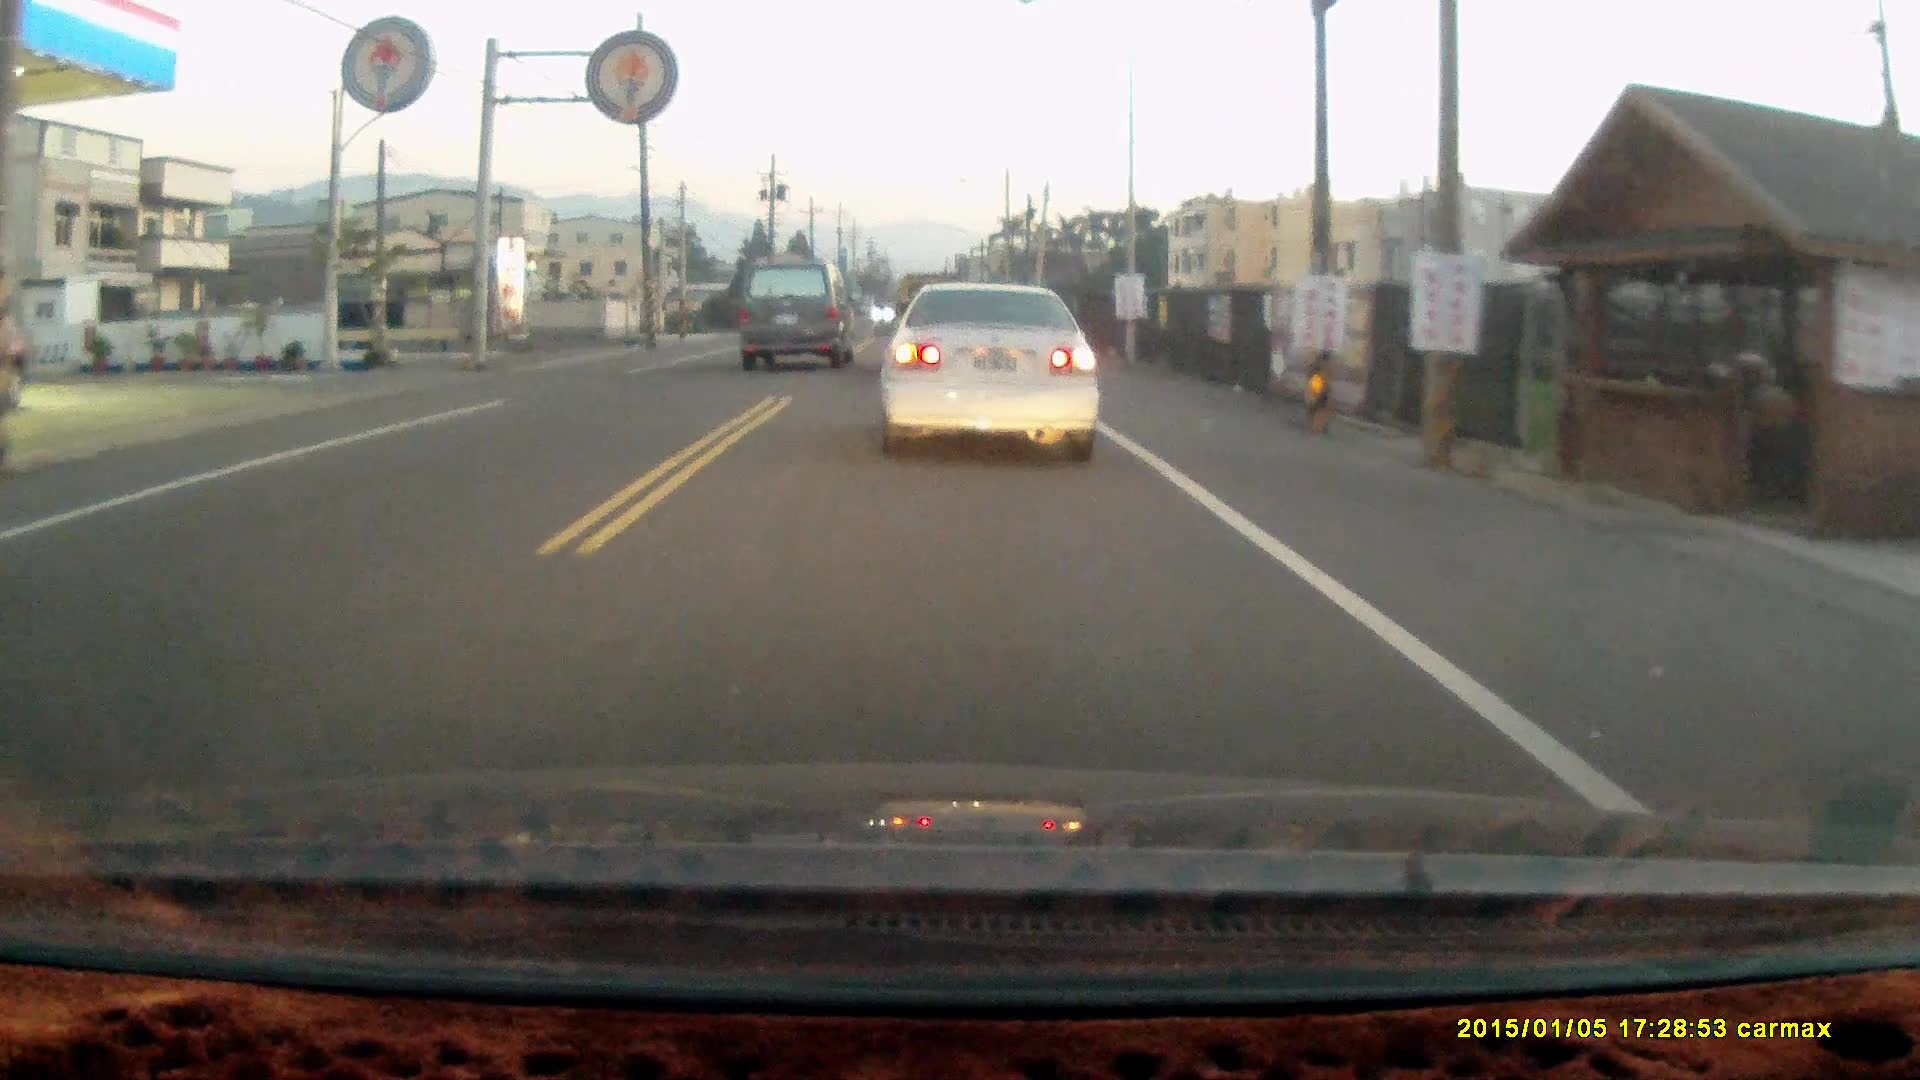pedestrian: (1728, 349, 1790, 475)
vehicle: (874, 278, 1102, 465), (731, 256, 856, 372)
